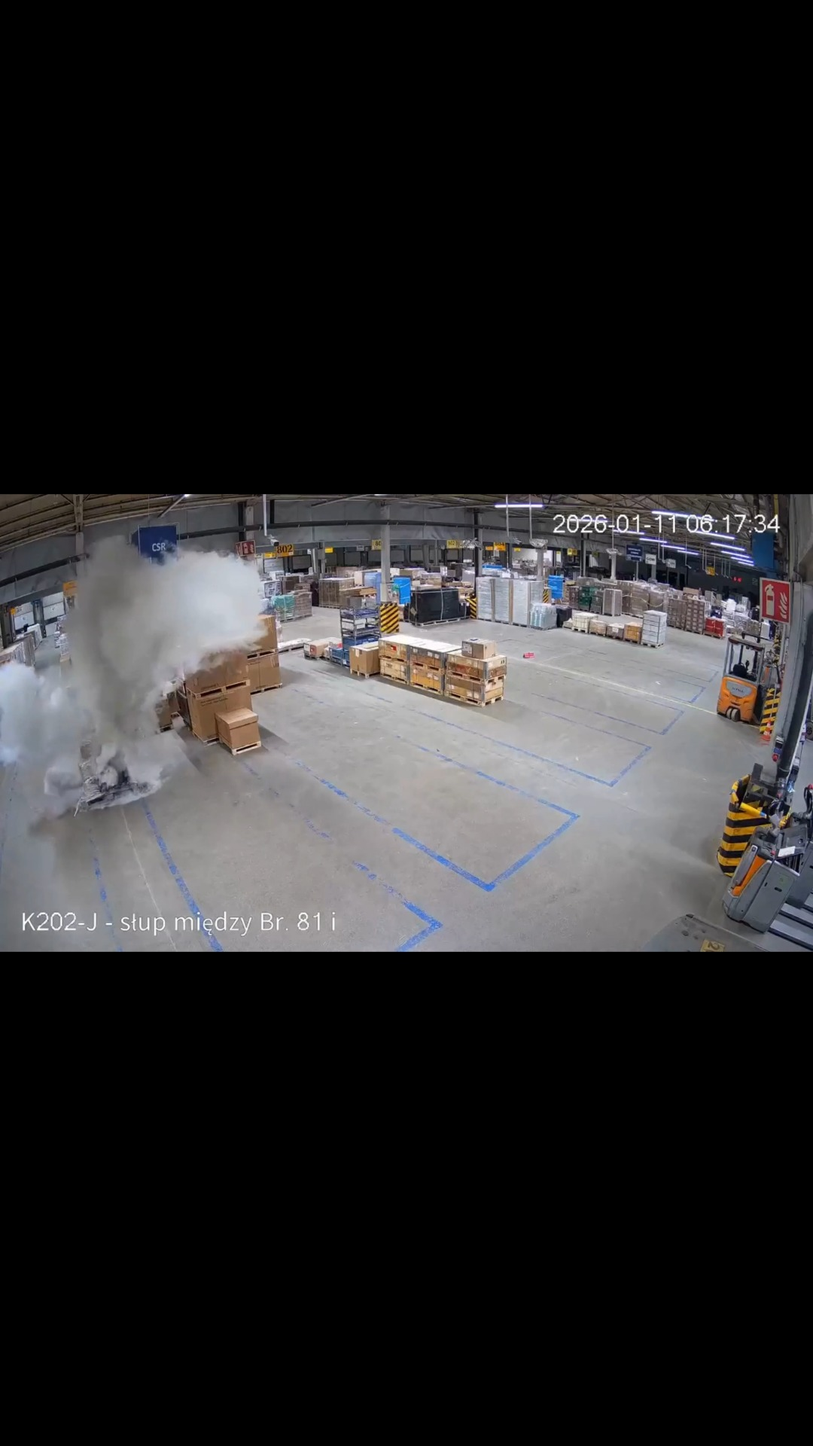smoke: (1, 533, 268, 816)
